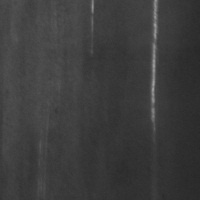scratches: (147, 0, 161, 133)
